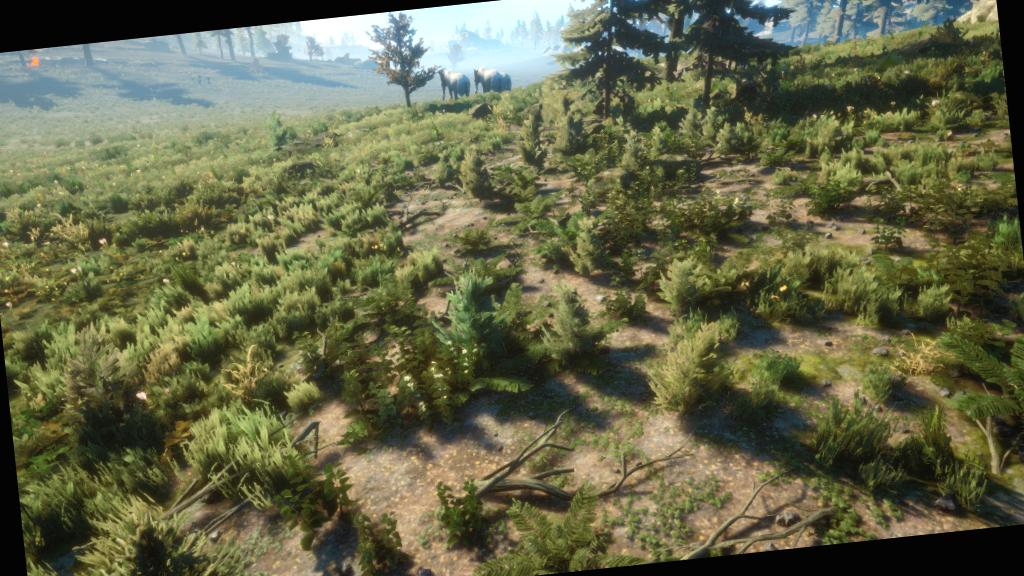elephant: (421, 48, 475, 113), (466, 54, 518, 101)
